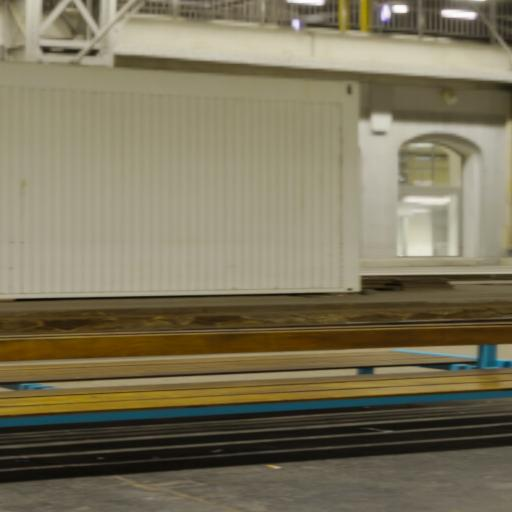nothing: (1, 0, 512, 511)
